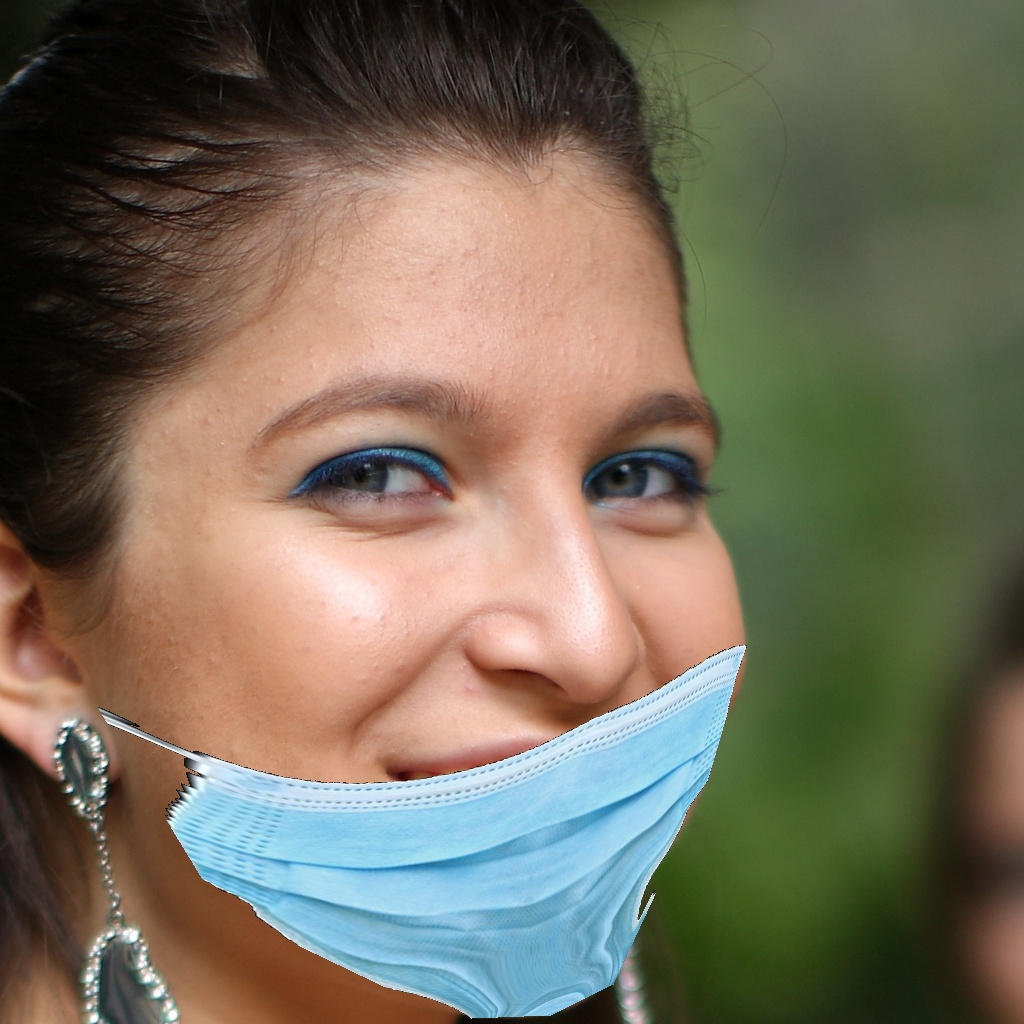mask_weared_incorrect: (224, 367, 751, 1012)
